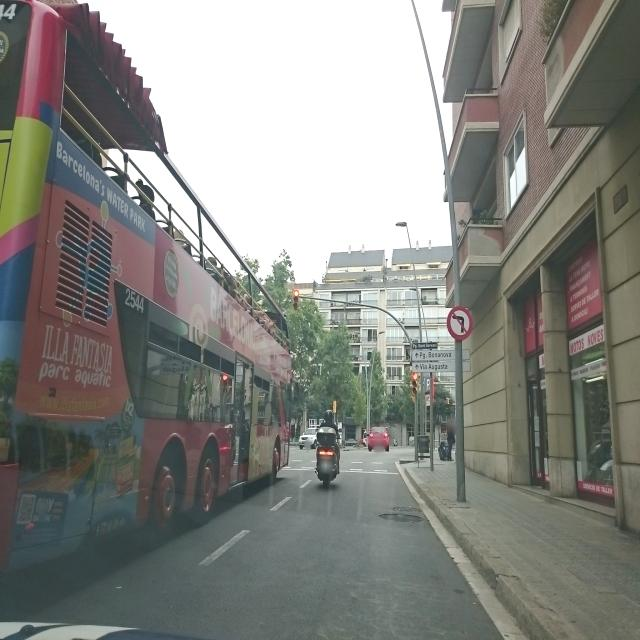bike: (315, 438, 341, 489)
car: (368, 425, 390, 452), (298, 427, 320, 449)
